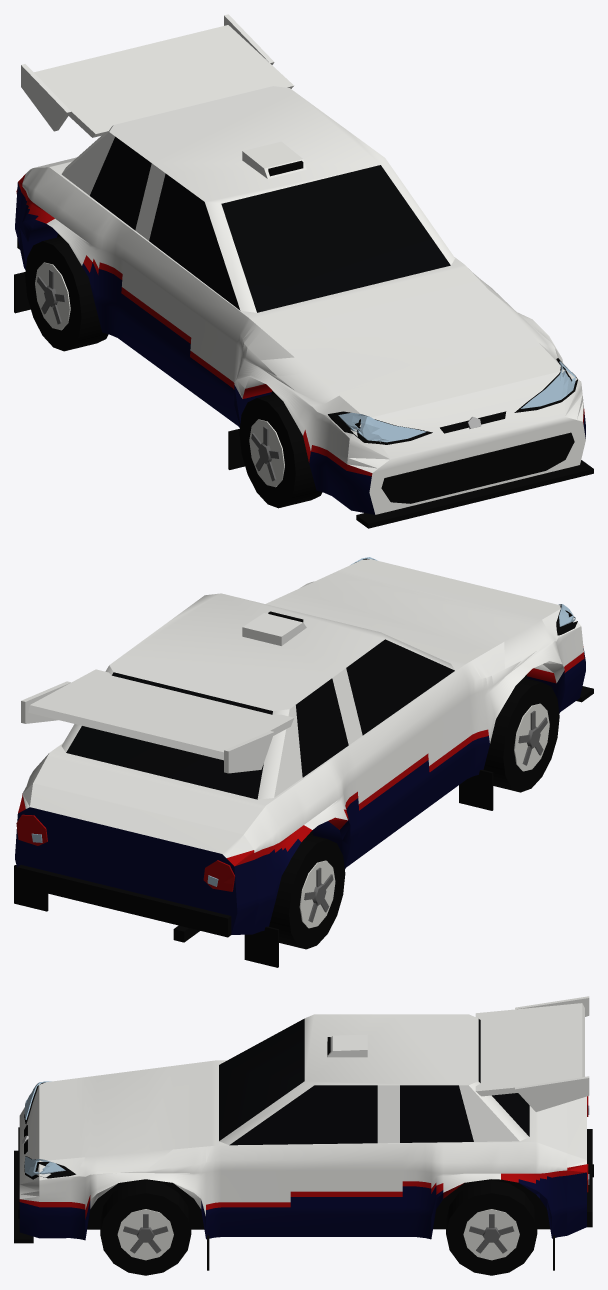
File: peugeot-206-wrc.glb
The picture shows the model from 3 angles, top to bottom: view 1: azimuth 30°, elevation 25°; view 2: azimuth 150°, elevation 25°; view 3: azimuth 270°, elevation 25°; orthographic projection. The views are drawn at different scales.
Visible parts, largest first — view 1: body, cabin, cabin-body, wing, body-blue, mouth, wheel-back-right, wheel-front-right, splitter, body-red, wing-plate-right, roof-scoop (+4 smaller); view 2: body, body-blue, cabin-body, cabin, wing, bumper-rear, wheel-back-right, wheel-front-right, body-red, wing-plate-right, roof-scoop, rim-front-right (+7 smaller); view 3: body, cabin, cabin-body, body-blue, wing, wheel-back-left, wheel-front-left, body-red, rim-front-left, rim-back-left, wing-plate-left, well-back (+6 smaller).
Boxes of the visible parts, x1,y1,x2,y2 form: body: (22,157,585,514); cabin: (90,136,450,312); cabin-body: (61,86,455,312); wing: (34,25,293,137); body-blue: (15,182,585,514); mouth: (381,432,574,503); wheel-back-right: (25,236,108,351); wheel-front-right: (239,393,322,508); splitter: (356,460,593,528); body-red: (18,174,584,476); wing-plate-right: (21,64,71,131); roof-scoop: (242,141,306,178); body: (22,559,583,857); body-blue: (15,648,585,934); cabin-body: (61,593,454,799); cabin: (66,639,454,799); wing: (28,669,293,760); bumper-rear: (17,865,231,937); wheel-back-right: (269,834,345,949); wheel-front-right: (483,678,559,792); body-red: (18,646,584,866); wing-plate-right: (224,731,274,773); roof-scoop: (242,613,306,645); rim-front-right: (514,703,549,771); body: (19,1060,586,1215); cabin: (219,1018,529,1145); cabin-body: (219,1014,528,1144); body-blue: (19,1172,586,1240); wing: (475,1003,584,1096); wheel-back-left: (446,1180,537,1275); wheel-front-left: (100,1180,191,1275); body-red: (19,1164,586,1219); rim-front-left: (117,1209,173,1260); rim-back-left: (463,1209,519,1260); wing-plate-left: (515,1076,589,1111); well-back: (433,1179,550,1229).
Size of the model in its own units: 1.81 by 1.47 by 4.14.
